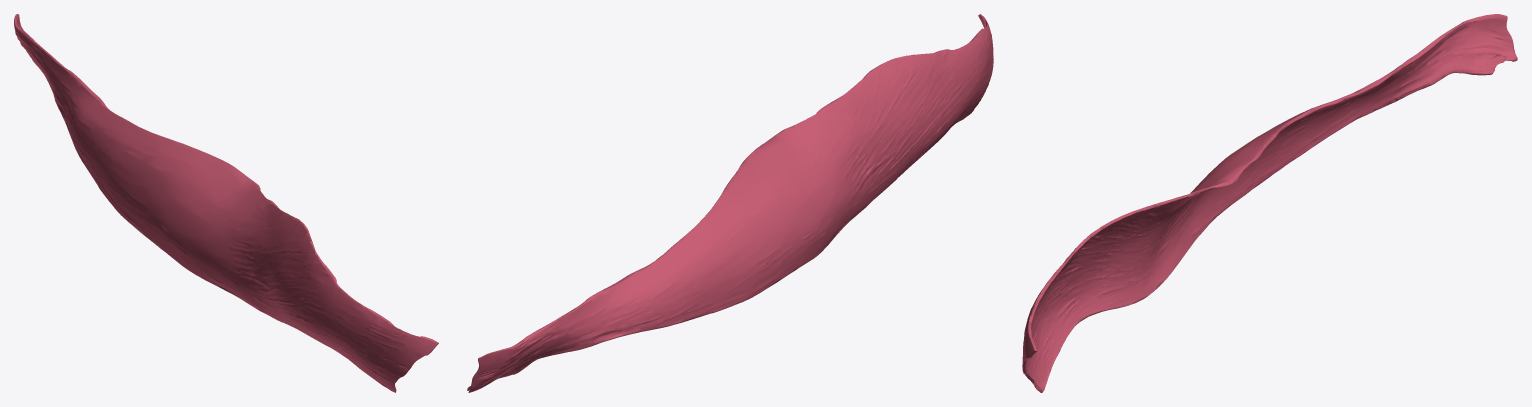
3 renders of one model, left to right at view 1: azimuth 30°, elevation 25°; view 2: azimuth 150°, elevation 25°; view 3: azimuth 330°, elevation 25°, orthographic. The views are drawn at different scales.
Parts seen in each view (by area): view 1: 右侧髂胫束; view 2: 右侧髂胫束; view 3: 右侧髂胫束.
Boxes of the visible parts, x1=… form: 右侧髂胫束: x1=14, y1=14, x2=438, y2=392; 右侧髂胫束: x1=467, y1=14, x2=993, y2=392; 右侧髂胫束: x1=1022, y1=14, x2=1517, y2=392.
Bounding box in the file's own units: 0.1052 × 0.1203 × 0.8918.
